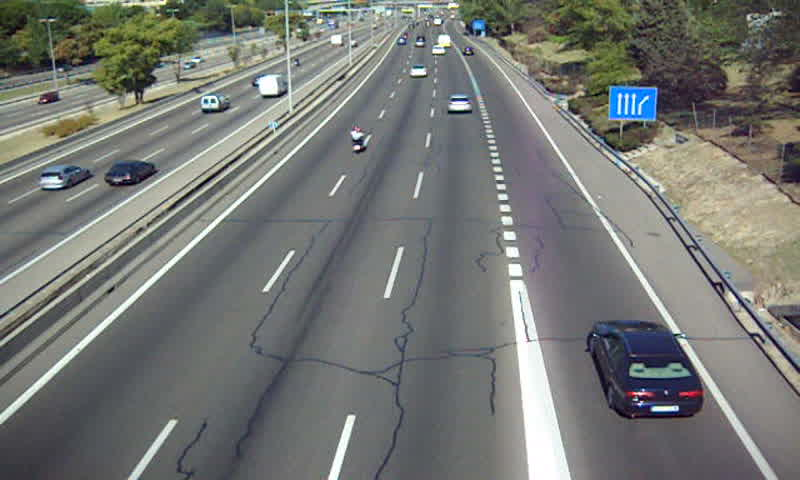car: (588, 322, 704, 419), (446, 93, 473, 113), (408, 63, 428, 78)
motorcycle: (349, 127, 367, 156)
